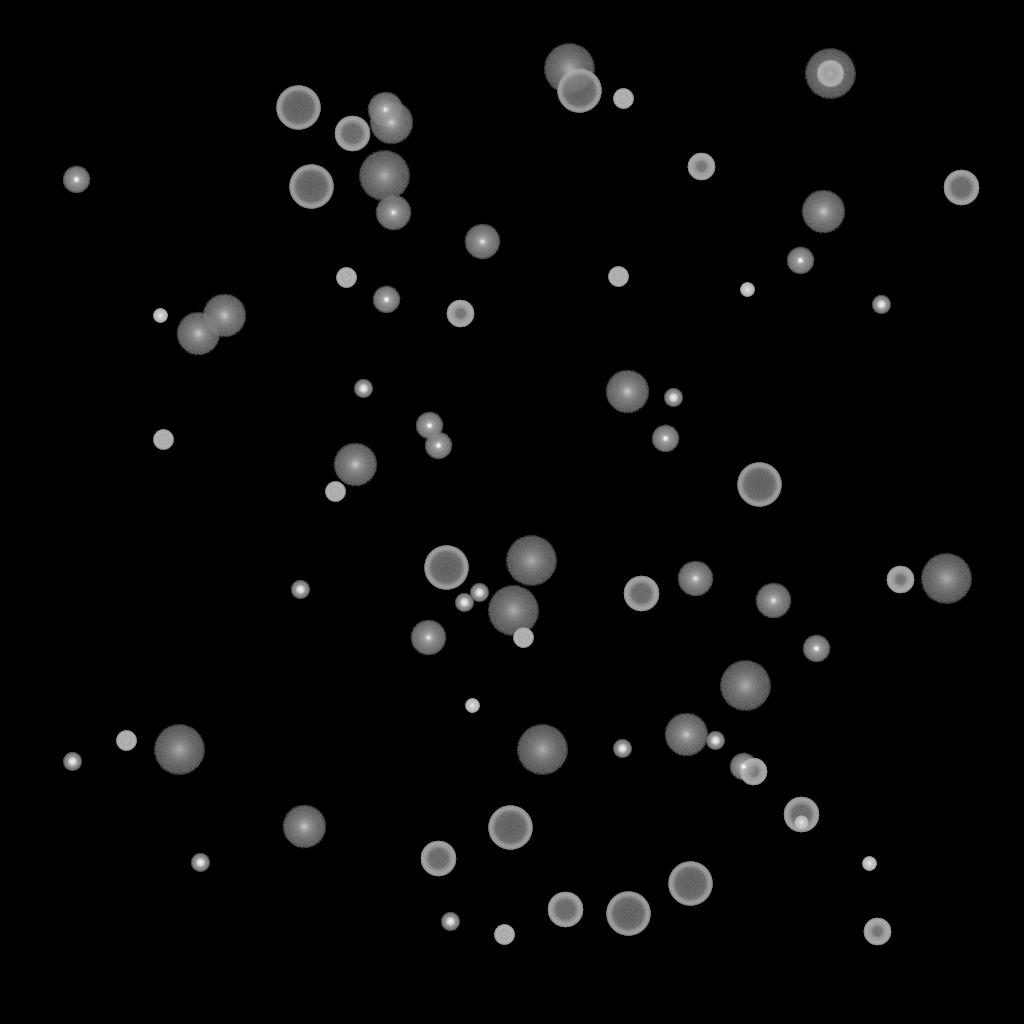depth:-10: (651, 425, 679, 453), (786, 247, 814, 275), (415, 412, 443, 440), (372, 286, 400, 314), (62, 166, 90, 194), (729, 753, 757, 781), (802, 635, 830, 663), (424, 432, 452, 460)
depth:-20: (455, 594, 473, 612), (291, 581, 309, 599), (441, 913, 459, 931), (354, 380, 372, 398), (664, 389, 682, 407), (470, 584, 488, 602), (613, 740, 631, 758), (872, 296, 890, 314), (63, 753, 81, 771), (706, 732, 724, 750), (191, 854, 209, 872)
depth:-30: (794, 816, 808, 830), (465, 699, 479, 713), (740, 283, 754, 297), (862, 857, 876, 871), (153, 309, 167, 323)
depth:-40: (116, 731, 136, 751), (325, 482, 345, 502), (336, 268, 356, 288), (494, 925, 514, 945), (613, 89, 633, 109), (608, 267, 628, 287), (153, 430, 173, 450), (513, 628, 533, 648)
depth:-50: (886, 566, 914, 594), (739, 758, 767, 786), (687, 153, 715, 181), (446, 300, 474, 328), (816, 60, 844, 88), (863, 918, 891, 946)
depth:-60: (783, 797, 819, 833), (420, 841, 456, 877), (547, 892, 583, 928), (623, 576, 659, 612), (334, 116, 370, 152), (943, 170, 979, 206)
depth:-70: (606, 892, 650, 936), (488, 806, 532, 850), (424, 546, 468, 590), (737, 463, 781, 507), (289, 165, 333, 209), (276, 86, 320, 130), (557, 69, 601, 113), (668, 862, 712, 906)
depth:0: (464, 224, 500, 260), (410, 620, 446, 656), (367, 92, 403, 128), (755, 583, 791, 619), (677, 561, 713, 597), (375, 195, 411, 231)
depth:10: (664, 713, 708, 757), (369, 101, 413, 145), (202, 294, 246, 338), (605, 370, 649, 414), (176, 312, 220, 356), (333, 443, 377, 487), (801, 190, 845, 234), (282, 805, 326, 849)
depth:20: (505, 536, 557, 586), (153, 725, 205, 775), (719, 661, 771, 711), (487, 586, 539, 636), (358, 151, 410, 201), (543, 44, 595, 94), (920, 554, 972, 604), (804, 49, 856, 99), (516, 725, 568, 775)
